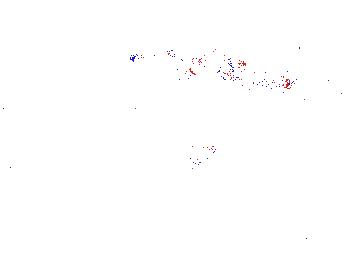X-ray fish: (138, 50, 185, 92)
glassfish: (104, 141, 217, 201)
redtail glassfish: (165, 44, 243, 77), (226, 69, 293, 96), (287, 45, 335, 72)
